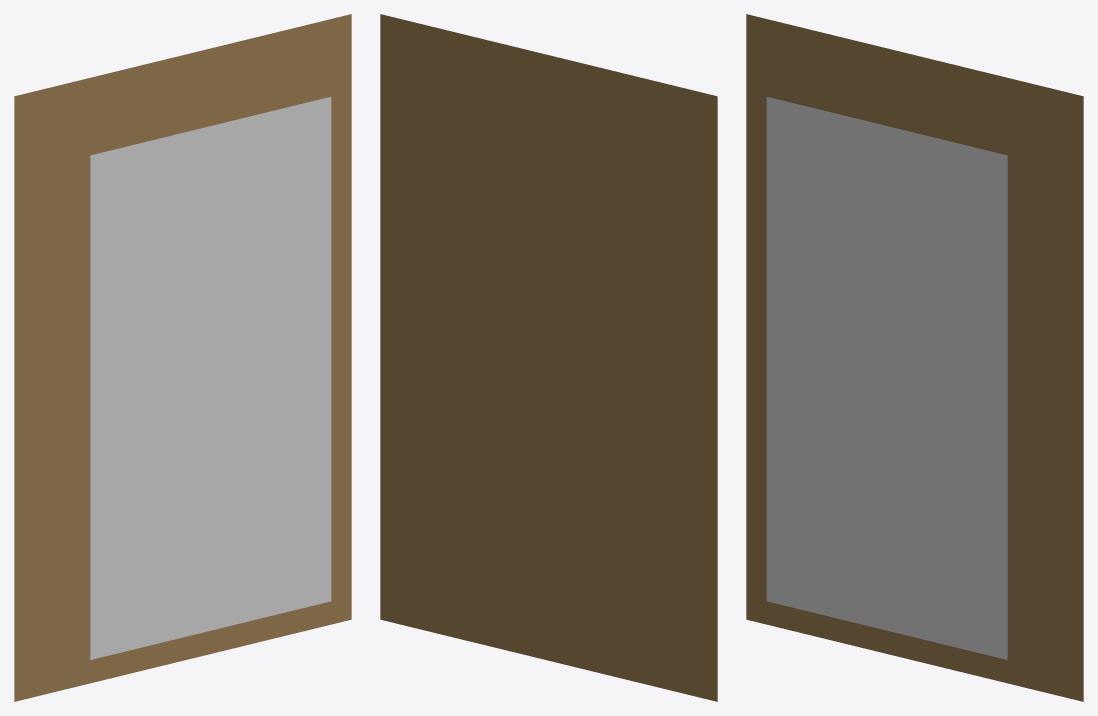
The model's file is mirror.glb.
3 views of the same model, side by side, from view 1: azimuth 30°, elevation 25°; view 2: azimuth 150°, elevation 25°; view 3: azimuth 330°, elevation 25° (orthographic).
Visible parts, largest first — view 1: mirror; view 2: mirror; view 3: mirror.
Boxes of the visible parts, <box> form: mirror: <box>14,14,351,701</box>; mirror: <box>380,14,717,701</box>; mirror: <box>746,14,1083,701</box>.
Bounding box in the file's own units: 0.7 × 1.2 × 0.1.
